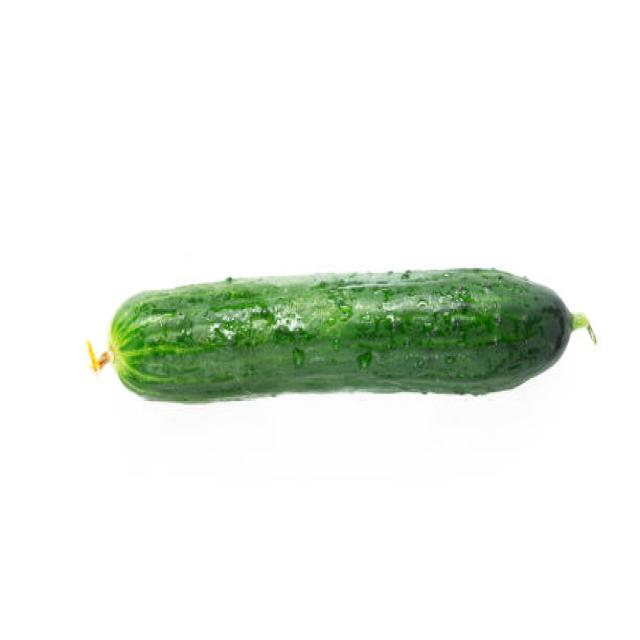cucumber: (110, 266, 569, 404)
